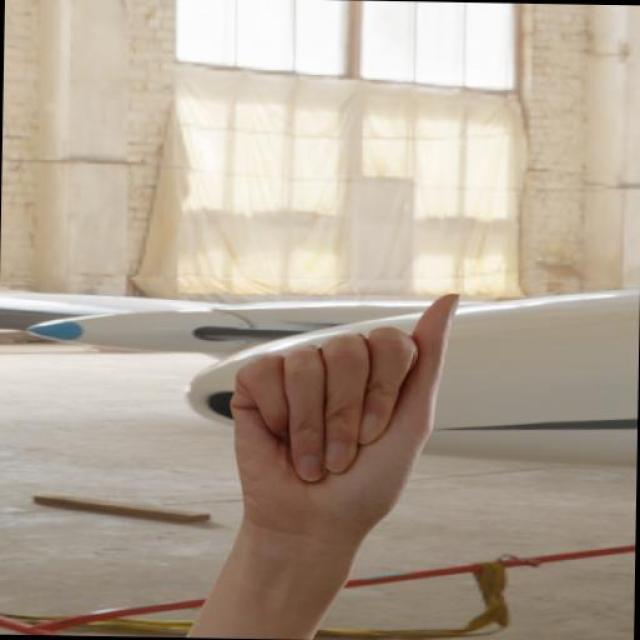A: (219, 285, 468, 544)
